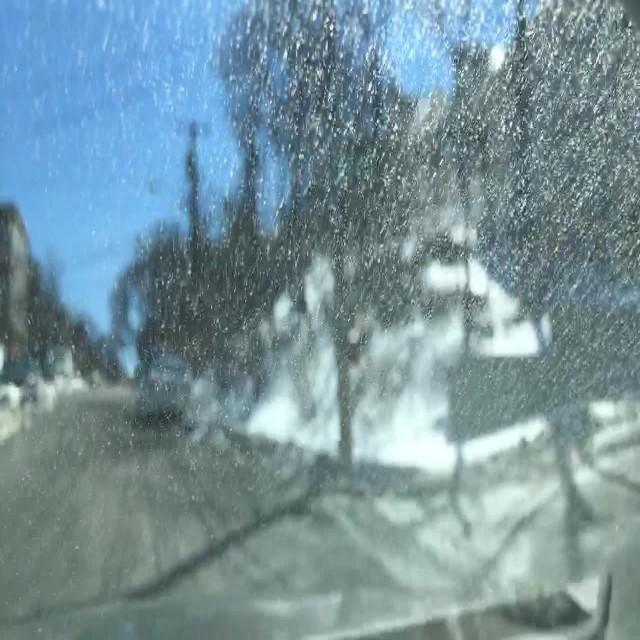single accident: (125, 337, 242, 432)
